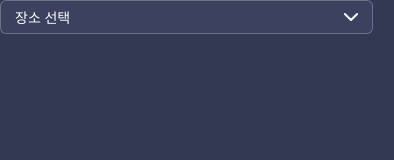
Test: CustomSelect — 고를 수 없는 항목 › 흐리게·'이동 불가' 표시·사유 툴팁, 눌러도 선택되지 않는다
Later steps or results of the test are not shown.
Click the text "장소 선택": (43, 18) [15,8,70,27]
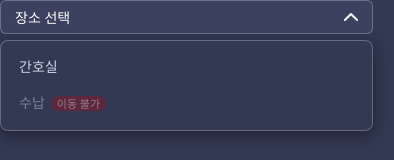
Expected: the text "이동 불가" is shown, [51,96,106,111]
